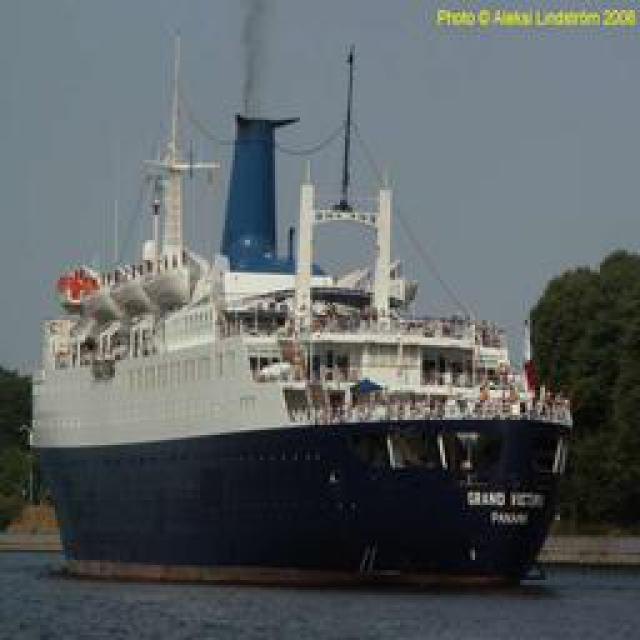Ship: (26, 19, 581, 594)
